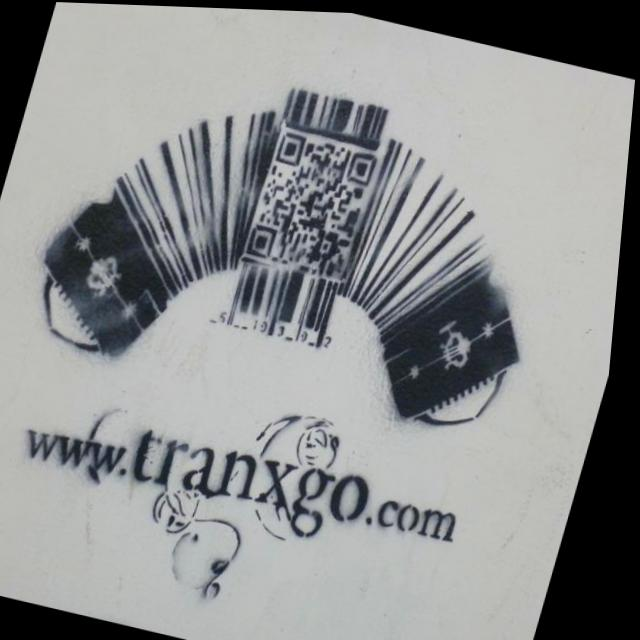qrcode: (248, 129, 384, 278)
